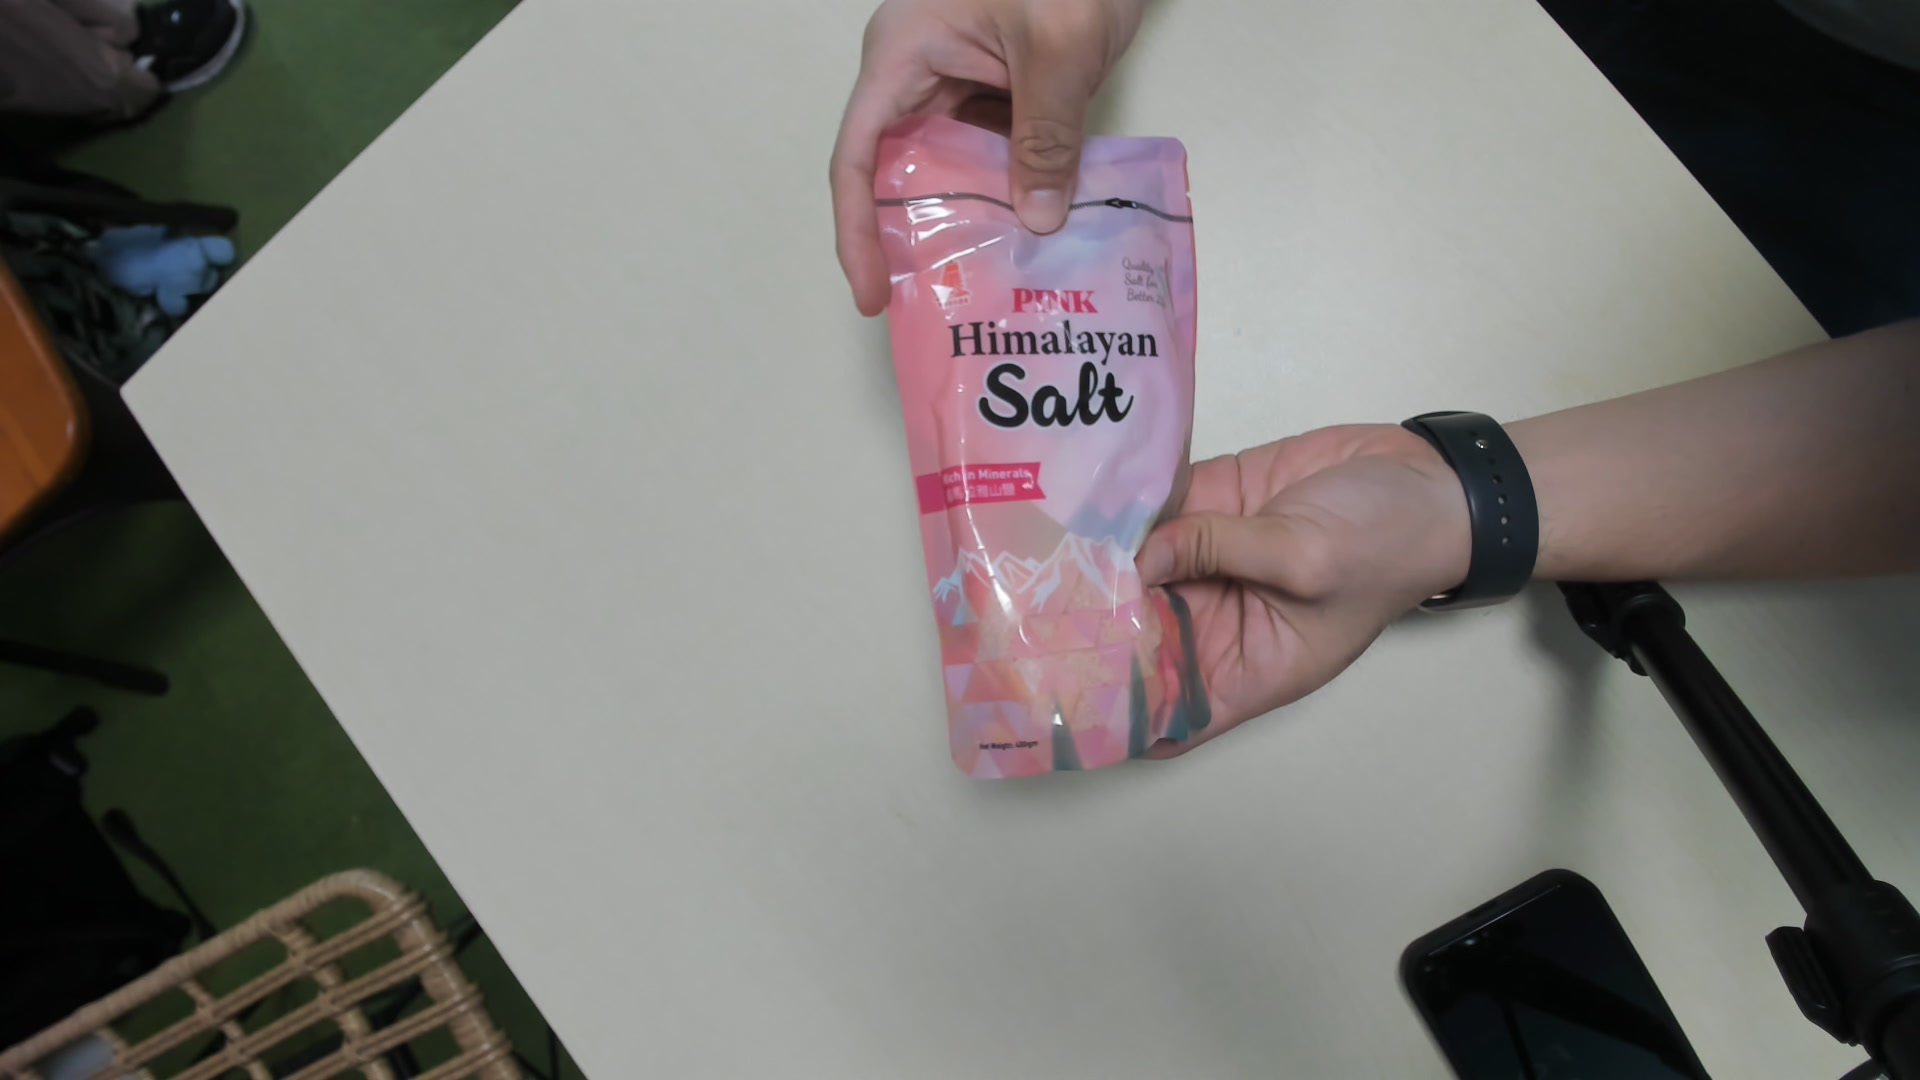Salt_400-499g_NonHalal_NonHealthy: (887, 112, 1222, 782)
